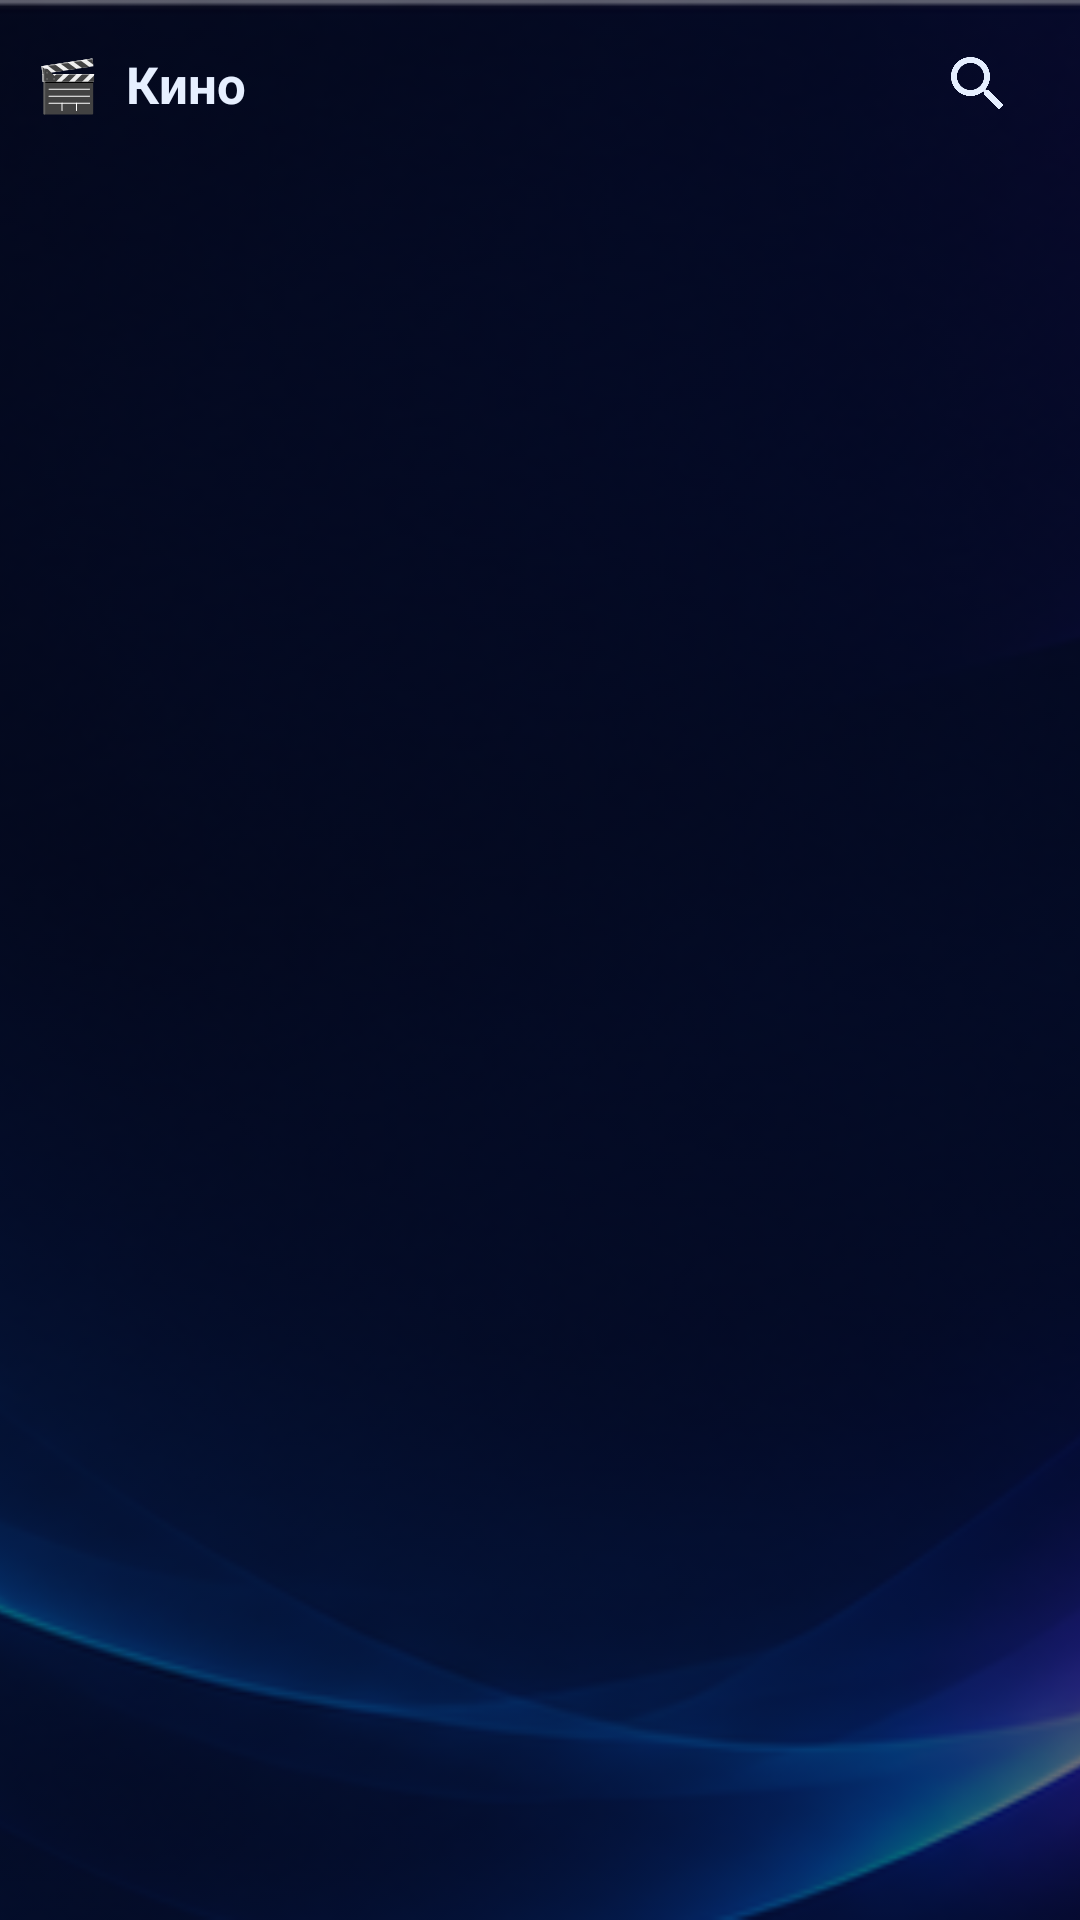

Locate icon controls on the screen. Image size 1080×1920, boxes as (x1, y1, x2, y2).
Поиск: (951, 57, 1003, 109)
